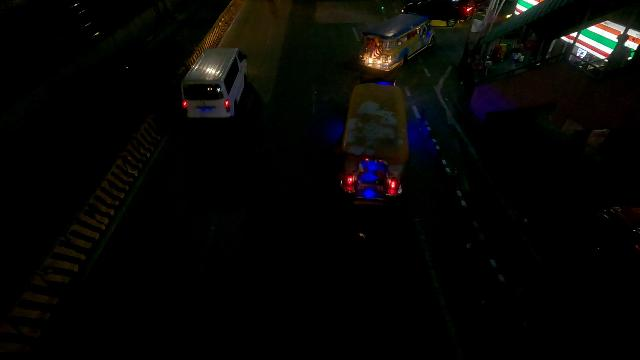jeepney: (341, 80, 409, 204), (360, 12, 435, 70)
van: (182, 46, 246, 117)
